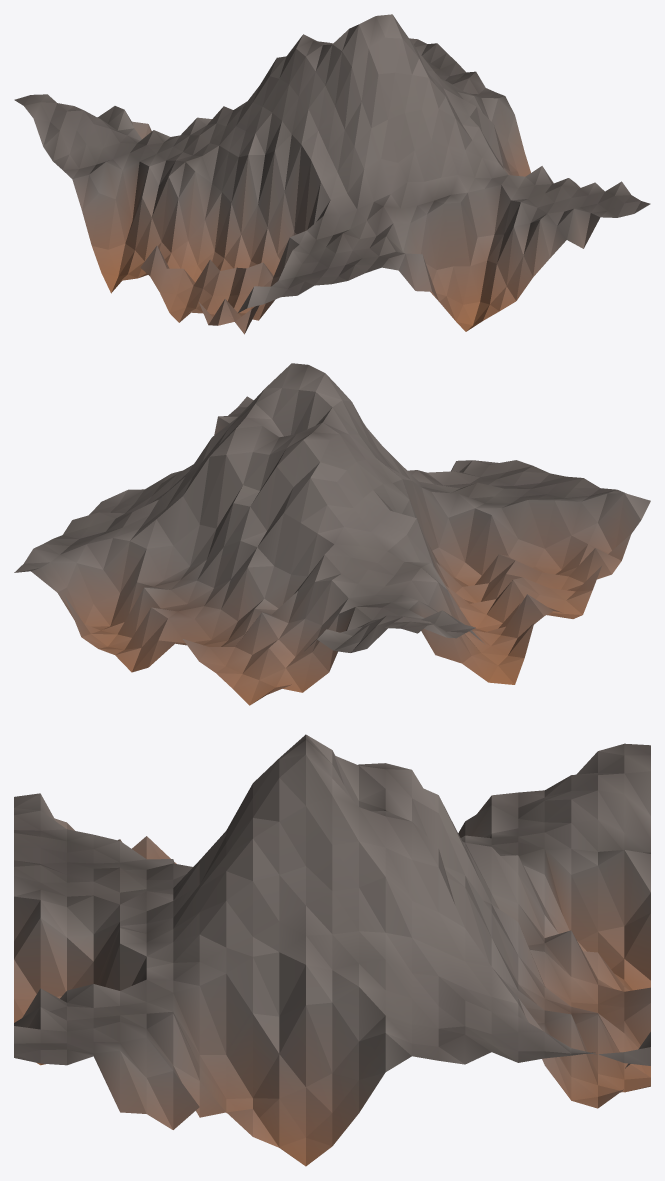
Rendered from volcanic_lod2.glb.
3 views of the same model, one above another, from view 1: azimuth 30°, elevation 25°; view 2: azimuth 150°, elevation 25°; view 3: azimuth 270°, elevation 25° (orthographic). The views are drawn at different scales.
Visible parts, largest first — view 1: world; view 2: world; view 3: world.
Part boxes in pixels (left/top/right/bottom): world: left=14, top=14, right=650, bottom=334; world: left=14, top=363, right=650, bottom=705; world: left=14, top=734, right=650, bottom=1166.
Bounding box in the file's own units: 2 × 1.14 × 2.
